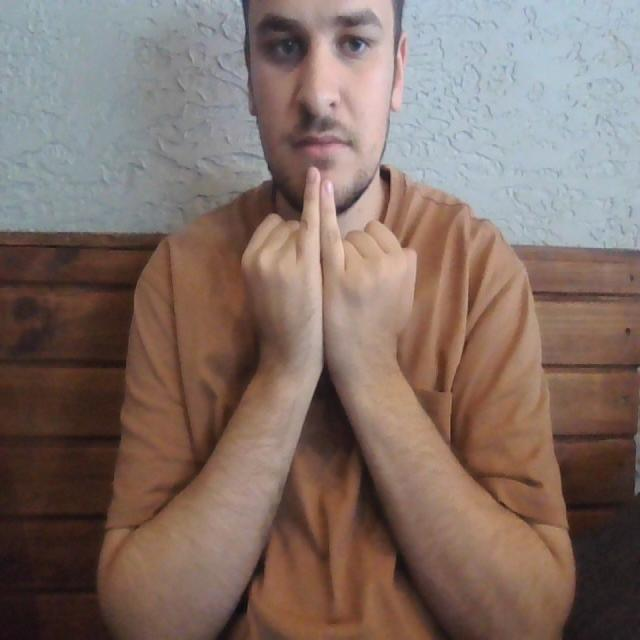Kardes: (235, 164, 420, 376)
